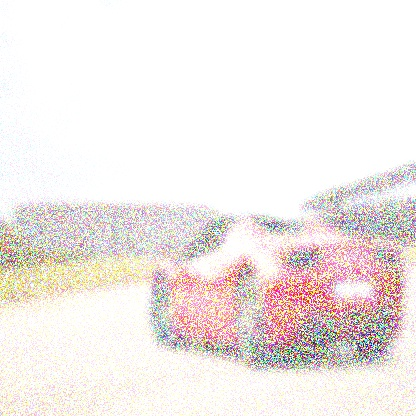Vehicle: (150, 212, 405, 371)
